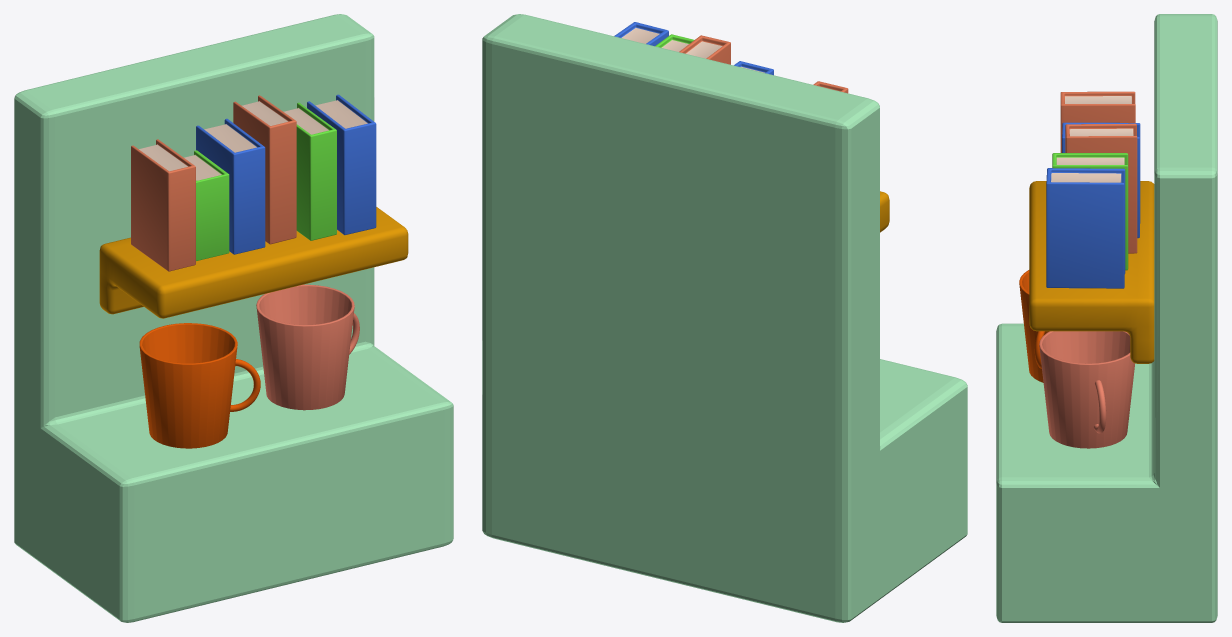
The picture shows the model from 3 angles, left to right: view 1: azimuth 30°, elevation 25°; view 2: azimuth 150°, elevation 25°; view 3: azimuth 270°, elevation 25°; orthographic projection. The views are drawn at different scales.
Parts seen in each view (by area): view 1: MagCup.002; view 2: MagCup.002; view 3: MagCup.002.
Part boxes in pixels (bbox=[...]): MagCup.002: bbox=[14, 14, 453, 622]; MagCup.002: bbox=[482, 14, 967, 622]; MagCup.002: bbox=[996, 14, 1217, 622].
Size of the model in its own units: 5.51 by 7.17 by 3.17.
